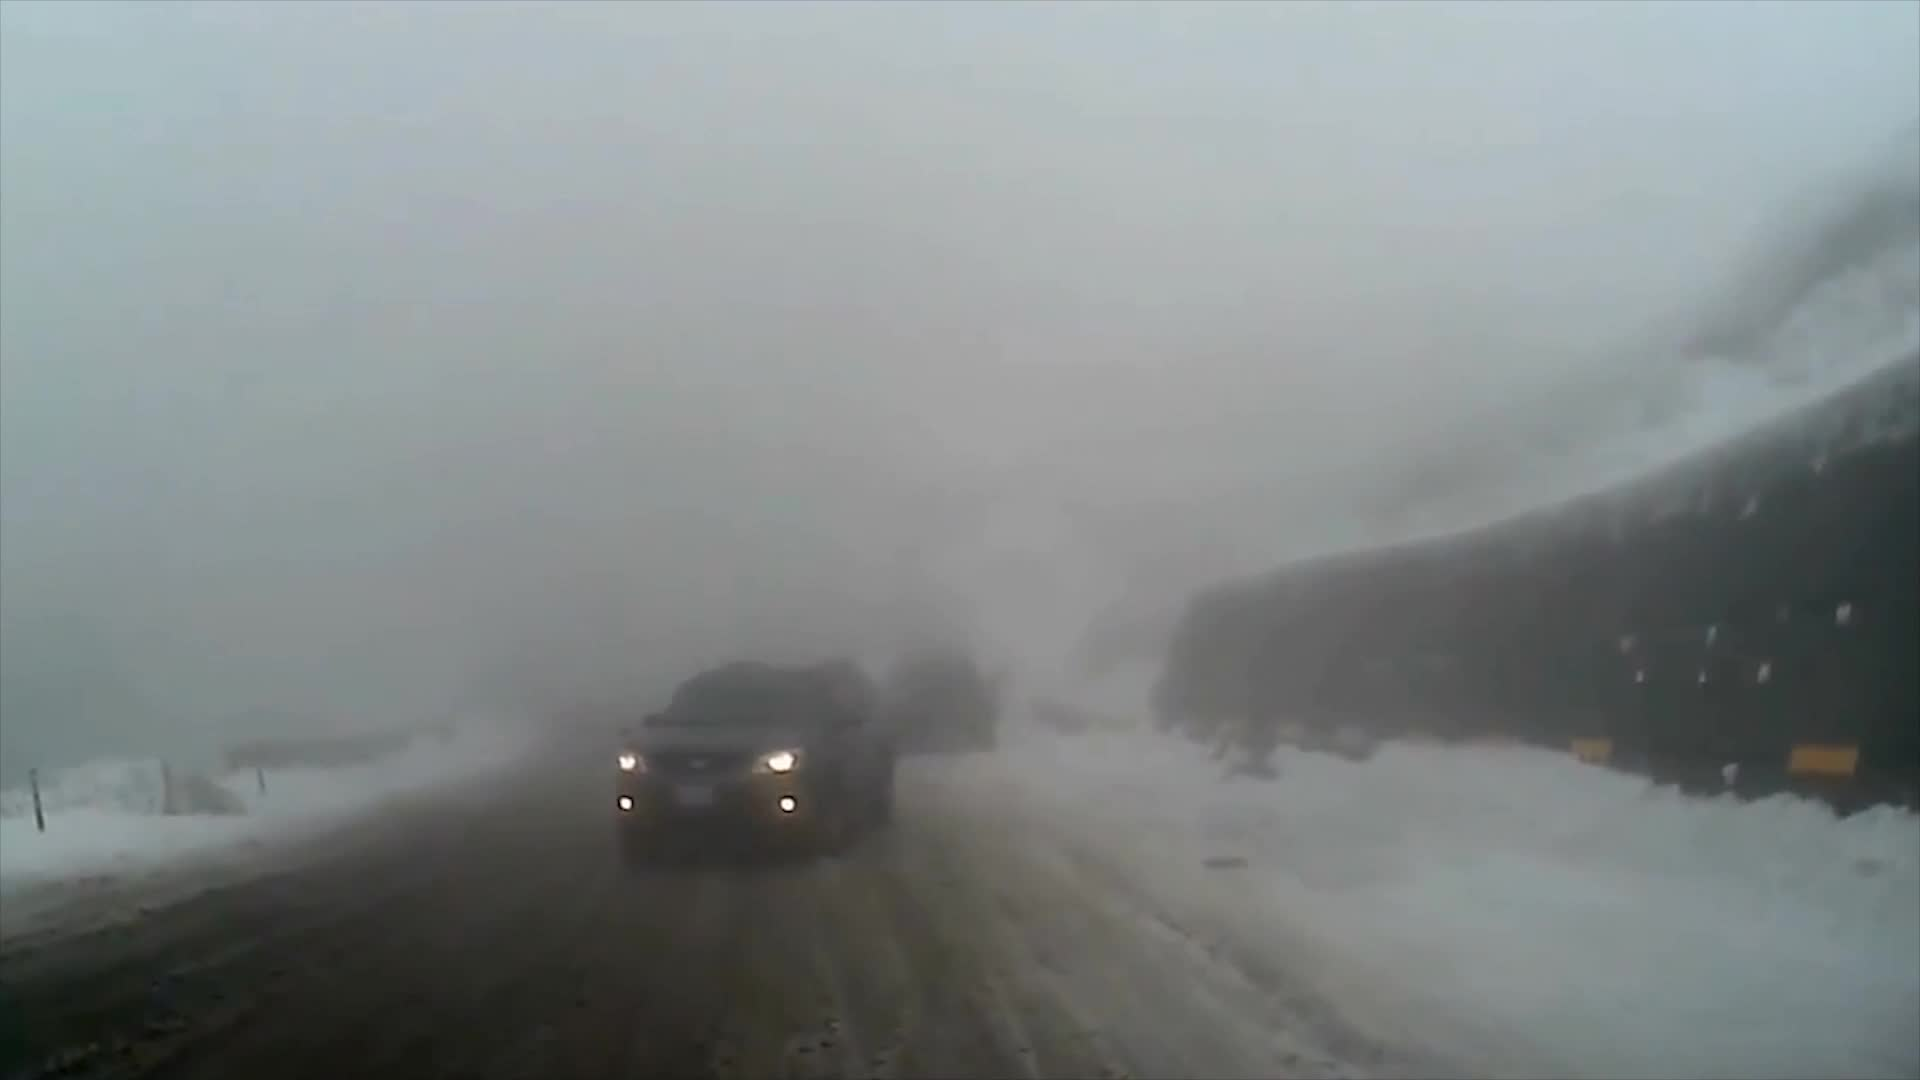vehicle: (607, 655, 893, 864)
